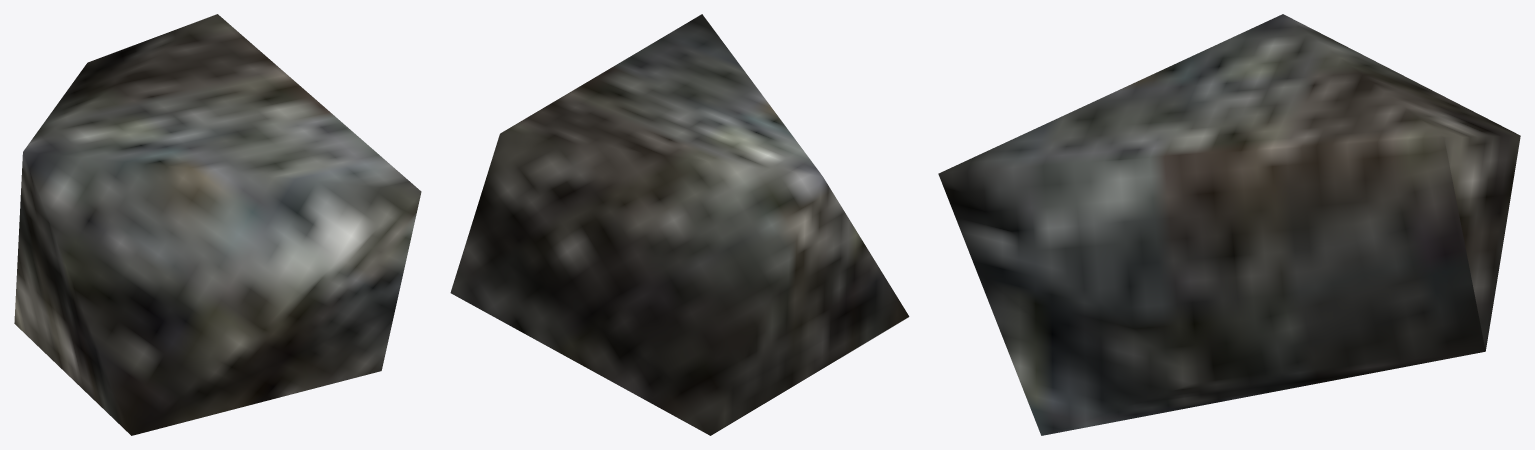
Rendered from Rock2_5.fbx.
3 views of the same model, side by side, from view 1: azimuth 30°, elevation 25°; view 2: azimuth 150°, elevation 25°; view 3: azimuth 270°, elevation 25° (orthographic). The views are drawn at different scales.
Parts seen in each view (by area): view 1: Rock2_LOD_5; view 2: Rock2_LOD_5; view 3: Rock2_LOD_5.
Boxes of the visible parts, x1,y1,x2,y2 form: Rock2_LOD_5: (14, 14, 421, 435); Rock2_LOD_5: (450, 14, 909, 435); Rock2_LOD_5: (938, 14, 1520, 435).
Bounding box in the file's own units: 0.7962 × 0.5868 × 0.9729.
